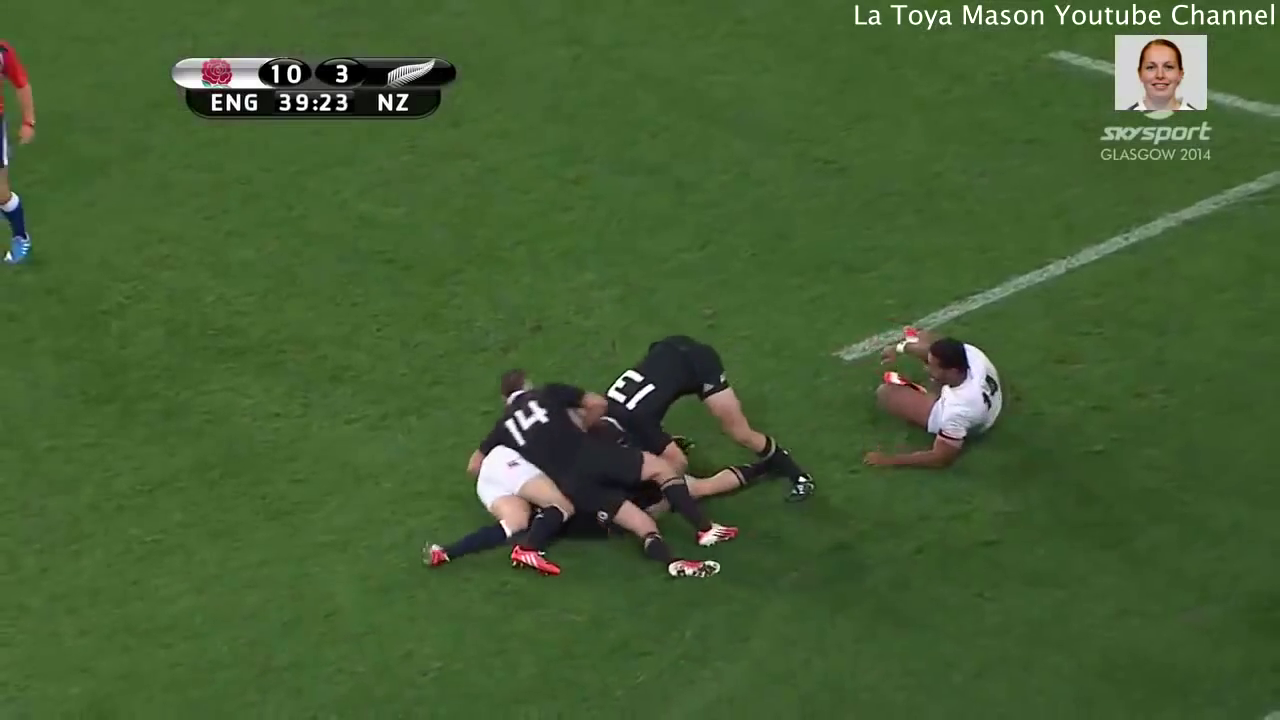player: (470, 355, 754, 579), (599, 316, 828, 508), (850, 308, 1016, 469)
ruck: (371, 326, 828, 587)
